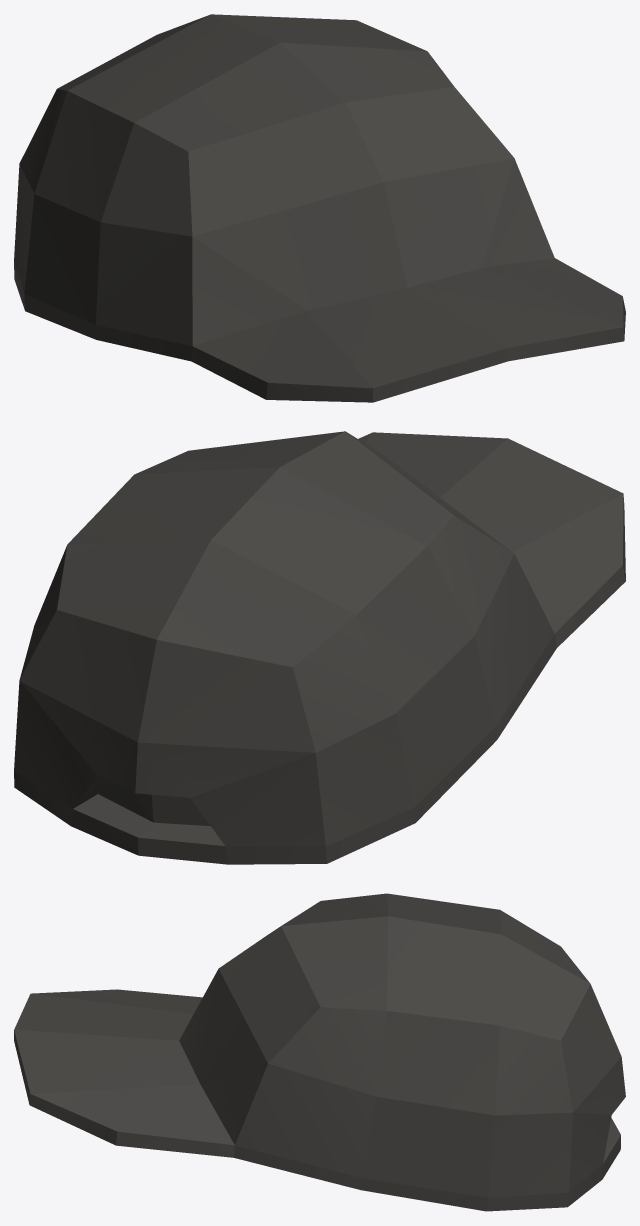
The model's file is Hat_03_SM.FBX.
3 renders of one model, top to bottom at view 1: azimuth 30°, elevation 25°; view 2: azimuth 150°, elevation 25°; view 3: azimuth 270°, elevation 25°, orthographic. The views are drawn at different scales.
Visible parts, largest first — view 1: Hat_03_SM; view 2: Hat_03_SM; view 3: Hat_03_SM.
Part boxes in pixels (left/top/right/bottom): Hat_03_SM: left=14, top=14, right=625, bottom=402; Hat_03_SM: left=14, top=431, right=625, bottom=864; Hat_03_SM: left=14, top=893, right=625, bottom=1211.
Size of what is drawn, in the model's own units: 22.24 by 35.85 by 15.1.
